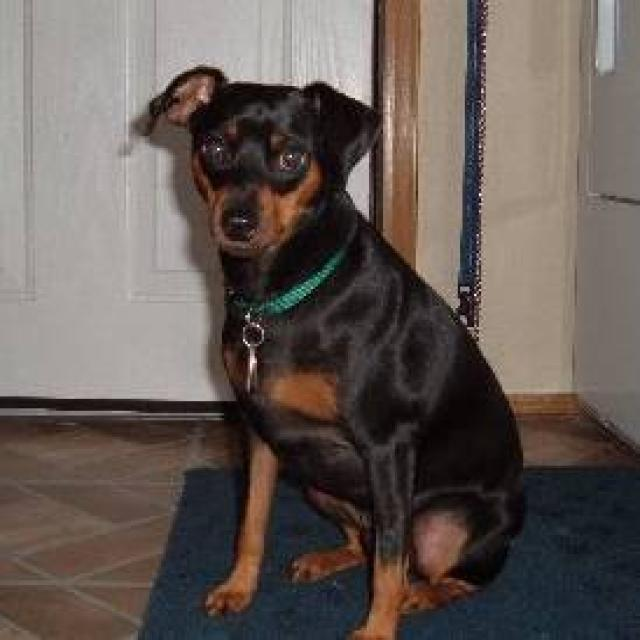dog: (145, 62, 528, 638)
